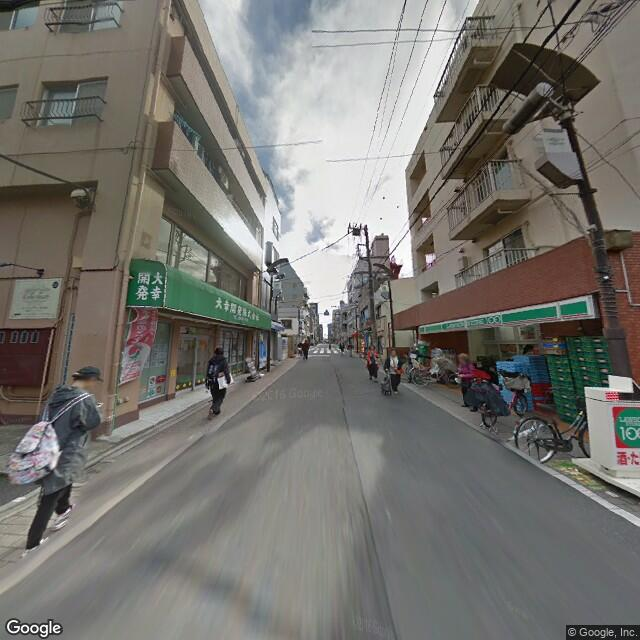lawson: (416, 291, 597, 336), (611, 398, 640, 450)
